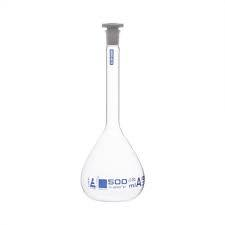Volumetric flask: (72, 10, 153, 204)
